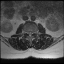CCS_normal: (29, 30, 31, 38)
LFS_stenosis: (33, 30, 35, 35)
LLS_stenosis: (31, 30, 33, 37)
RFS_normal: (25, 29, 27, 35)
RLS_normal: (27, 30, 29, 36)
